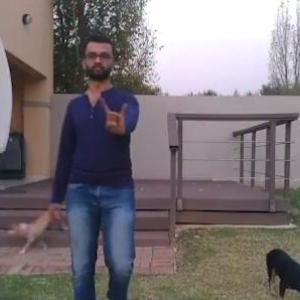takeoff-hand: (98, 91, 135, 141)
